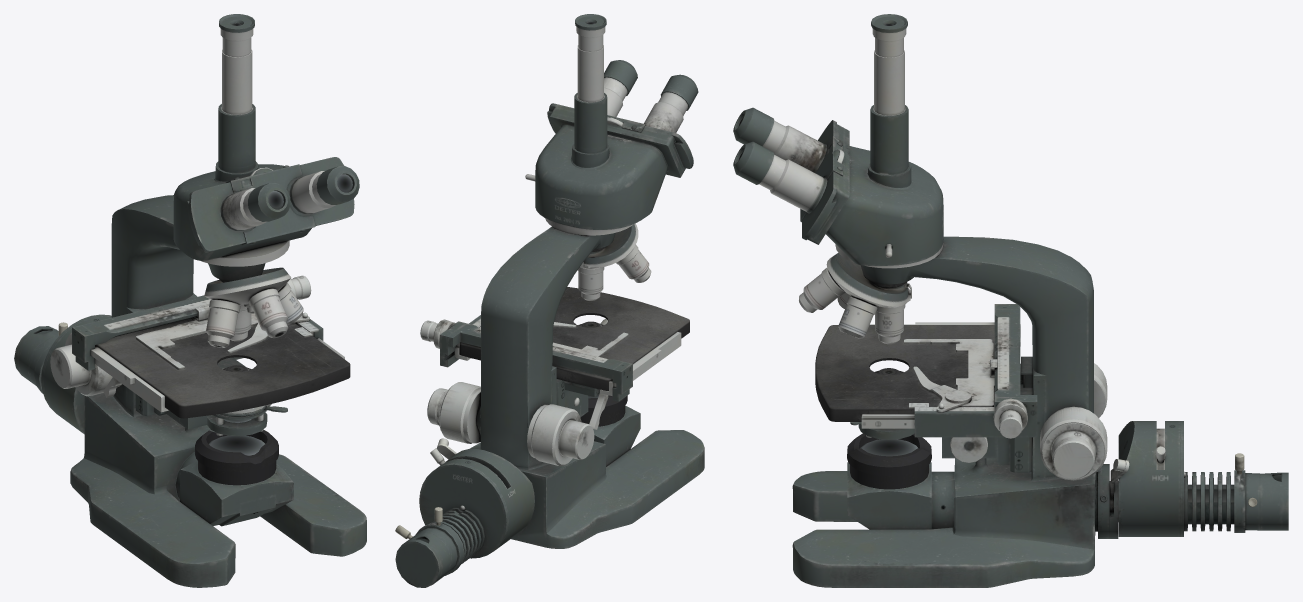
Rendered from industrial_microscope_1k.glb.
3 views of the same model, side by side, from view 1: azimuth 30°, elevation 25°; view 2: azimuth 150°, elevation 25°; view 3: azimuth 270°, elevation 25° (orthographic). The views are drawn at different scales.
Parts seen in each view (by area): view 1: industrial_microscope; view 2: industrial_microscope; view 3: industrial_microscope.
Part boxes in pixels (x1,y1,x2,y2): industrial_microscope: (14,14,366,587); industrial_microscope: (395,14,704,587); industrial_microscope: (733,14,1288,587).
Size of the model in its own units: 0.2145 by 0.4601 by 0.4466.
1 material, 1 textured.
